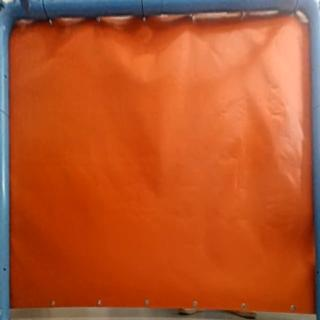Hit-hRxx: (268, 142, 279, 154)
